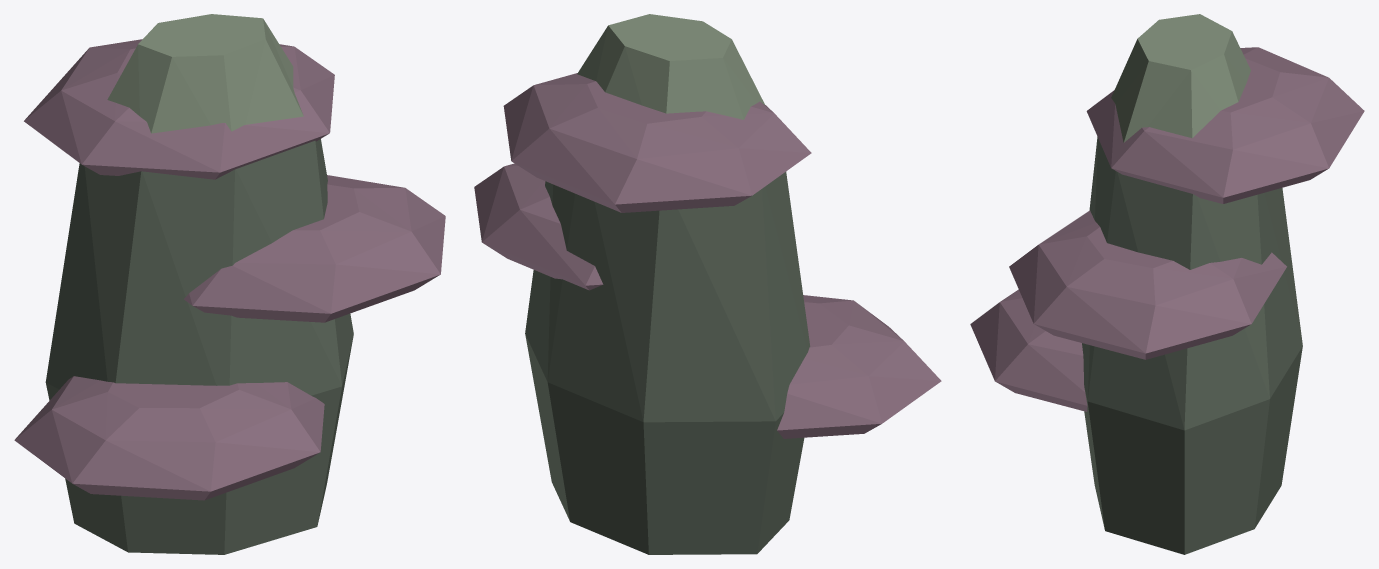
File: shelf-fungus.glb
3 renders of one model, left to right at view 1: azimuth 30°, elevation 25°; view 2: azimuth 150°, elevation 25°; view 3: azimuth 270°, elevation 25°, orthographic. The views are drawn at different scales.
Visible parts, largest first — view 1: shelf-fungus__body; view 2: shelf-fungus__body; view 3: shelf-fungus__body.
Boxes of the visible parts, box(x1,y1,x2,y2) form: shelf-fungus__body: box(14, 14, 445, 554); shelf-fungus__body: box(474, 14, 941, 554); shelf-fungus__body: box(970, 14, 1364, 554).
Size of the model in its own units: 1.2 by 1.3 by 1.02.
